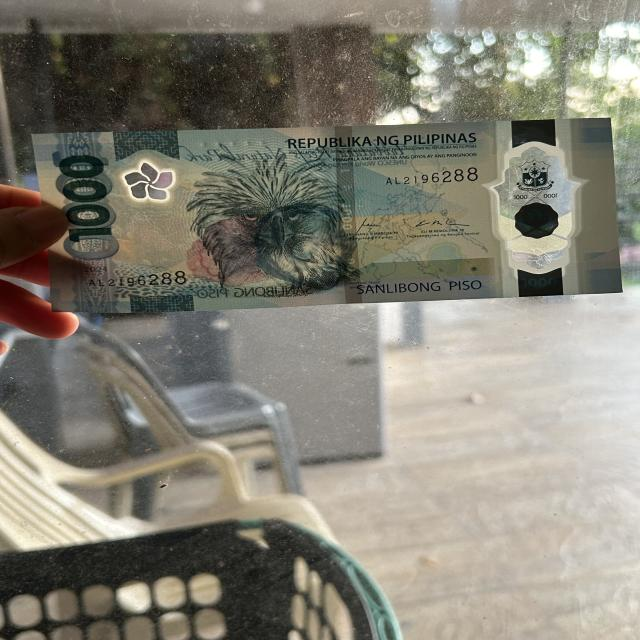clear_window: (484, 136, 585, 276)
eagle: (179, 144, 355, 298)
sampaguita: (118, 158, 179, 202)
